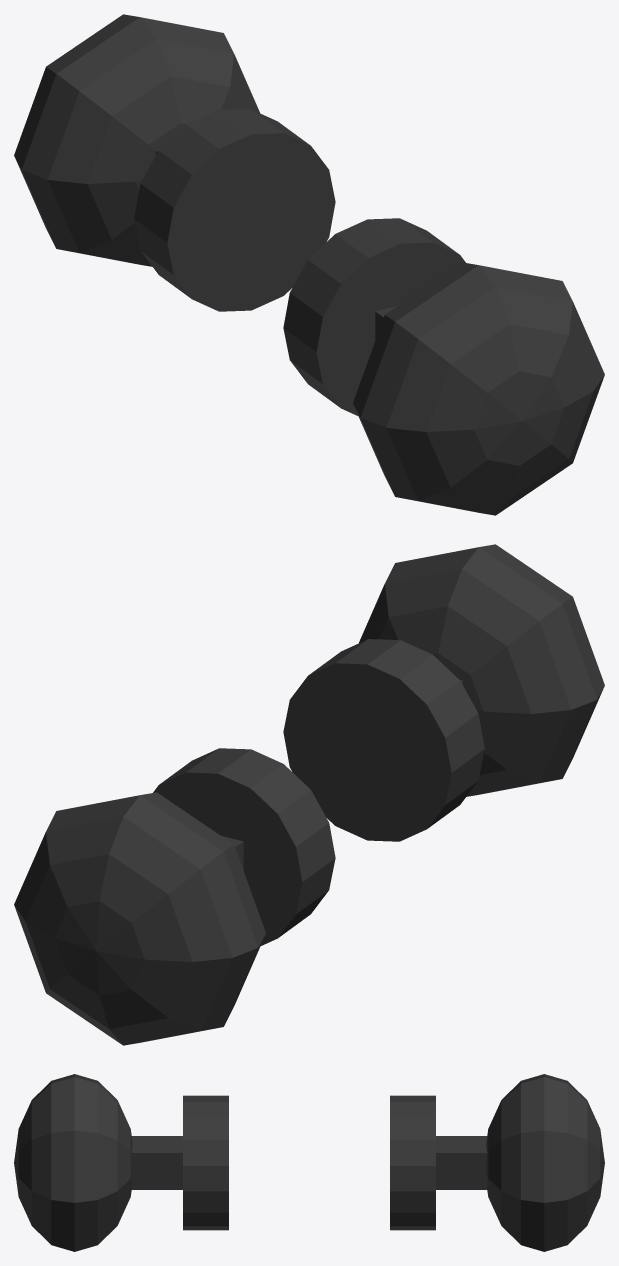
File: DoorHandle2_C1.fbx
3 views of the same model, one above another, from view 1: azimuth 30°, elevation 25°; view 2: azimuth 150°, elevation 25°; view 3: azimuth 270°, elevation 25° (orthographic). The views are drawn at different scales.
Visible parts, largest first — view 1: DoorHandle2_C1; view 2: DoorHandle2_C1; view 3: DoorHandle2_C1.
Boxes of the visible parts, x1,y1,x2,y2 form: DoorHandle2_C1: (14, 14, 604, 515); DoorHandle2_C1: (14, 544, 604, 1045); DoorHandle2_C1: (14, 1074, 604, 1251).
Size of the model in its own units: 8.06 by 8.06 by 25.14.
